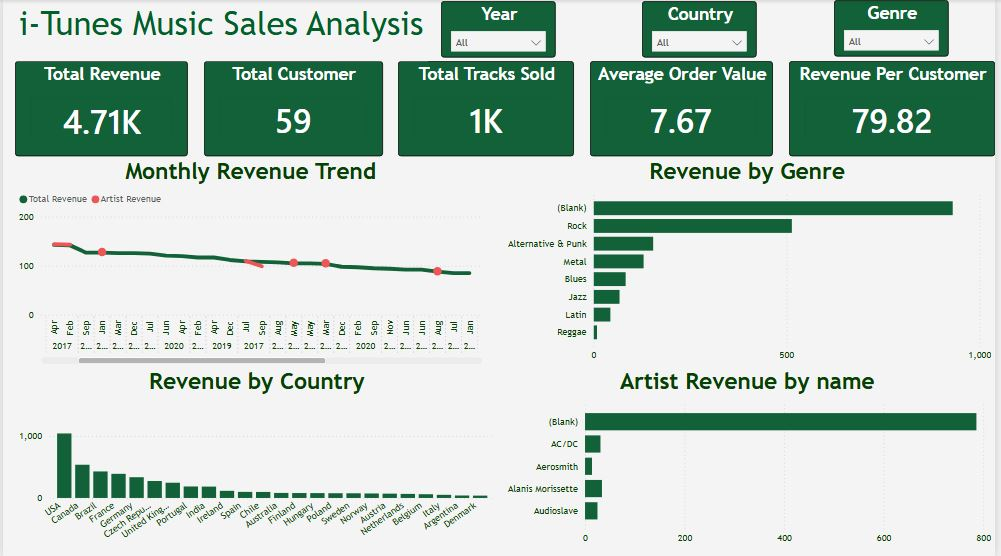

This screenshot's page, from the dashboard's own definition file:
{"tool":"powerbi","page":{"name":"Page 1","canvas":[1280,720],"ordinal":0},"visuals":[{"type":"cardVisual","title":"Total Revenue","fields":{"Data":["invoice.Total Revenue"]},"box":[16.1,78.7,223.5,123.4],"z":0},{"type":"cardVisual","title":"Total Customer","fields":{"Data":["album.Total Customers"]},"box":[259.2,78.7,230.6,123.4],"z":1000},{"type":"cardVisual","title":"Total Tracks Sold","fields":{"Data":["album.Total Tracks sold"]},"box":[509.5,78.7,227,123.4],"z":2000},{"type":"cardVisual","title":"Average Order Value","fields":{"Data":["album.Average Order Value"]},"box":[758,78.7,236,123.4],"z":3000},{"type":"cardVisual","title":"Revenue Per Customer","fields":{"Data":["album.Revenue per customer"]},"box":[1013.6,78.7,266.4,123.4],"z":4000},{"type":"textbox","box":[16.1,0,532.7,78.7],"z":5000},{"type":"lineChart","title":"Monthly Revenue Trend","fields":{"Y":["invoice.Total Revenue","artist.Artist Revenue"],"Category":["DateTable.Year","DateTable.Month"]},"box":[16.1,202,607.8,271.7],"z":6000},{"type":"clusteredBarChart","title":"Revenue by Genre","fields":{"Category":["genre.name"],"Y":["invoice.Total Revenue"]},"box":[640,202,640,271.7],"z":7000},{"type":"clusteredColumnChart","title":"Revenue by Country","fields":{"Category":["invoice.billing_country"],"Y":["invoice.Total Revenue"]},"box":[16.1,473.7,623.9,236],"z":8000},{"type":"slicer","title":"Year","fields":{"Values":["DateTable.Year"]},"box":[564.9,1.8,148.4,73.3],"z":9000},{"type":"slicer","title":"Country","fields":{"Values":["invoice.billing_country"]},"box":[824.1,1.8,148.4,73.3],"z":10000},{"type":"slicer","title":"Genre","fields":{"Values":["genre.name"]},"box":[1072.6,0,148.4,73.3],"z":11000},{"type":"clusteredBarChart","fields":{"Category":["artist.name"],"Y":["artist.Artist Revenue"]},"box":[640,473.7,640,236],"z":12000}]}

Visuals, with their boxes in screenshot pixels (x1, y1, x2, y2), scaled from the page's 1280x720 canvas onto the 1001x556 screenshot:
"Total Revenue" cardVisual: l=13, t=61, r=187, b=156
"Total Customer" cardVisual: l=203, t=61, r=383, b=156
"Total Tracks Sold" cardVisual: l=398, t=61, r=576, b=156
"Average Order Value" cardVisual: l=593, t=61, r=777, b=156
"Revenue Per Customer" cardVisual: l=793, t=61, r=1000, b=156
textbox: l=13, t=0, r=429, b=61
"Monthly Revenue Trend" lineChart: l=13, t=156, r=488, b=366
"Revenue by Genre" clusteredBarChart: l=500, t=156, r=1000, b=366
"Revenue by Country" clusteredColumnChart: l=13, t=366, r=500, b=548
"Year" slicer: l=442, t=1, r=558, b=58
"Country" slicer: l=644, t=1, r=761, b=58
"Genre" slicer: l=839, t=0, r=955, b=57
clusteredBarChart - artist.name x artist.Artist Revenue: l=500, t=366, r=1000, b=548
